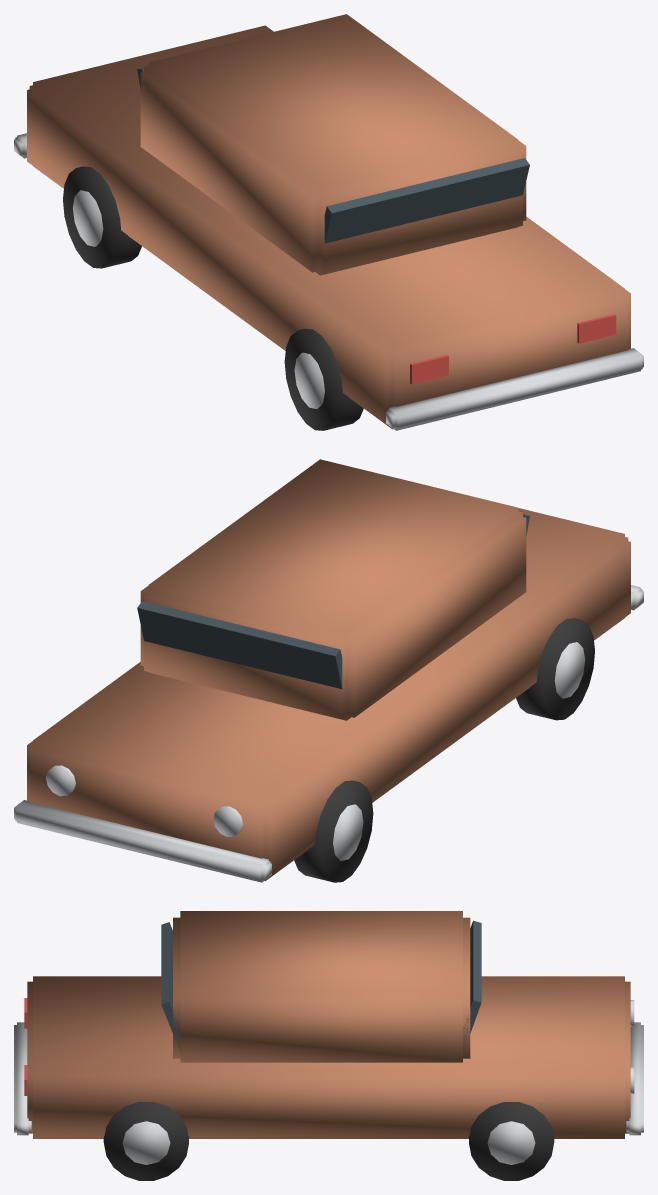
Rendered from skoda_120.glb.
3 views of the same model, one above another, from view 1: azimuth 30°, elevation 25°; view 2: azimuth 150°, elevation 25°; view 3: azimuth 270°, elevation 25° (orthographic). The views are drawn at different scales.
Visible parts, largest first — view 1: BodyLower, Cabin, RearWindow, RearBumper, Tire_-0.7_1.2, Tire_-0.7_-1.2, Rim_-0.7_-1.2, Rim_-0.7_1.2, Taillamp_0.54, Taillamp_-0.54; view 2: BodyLower, Cabin, Windshield, FrontBumper, Tire_-0.7_-1.2, Tire_-0.7_1.2, Rim_-0.7_1.2, Rim_-0.7_-1.2, Headlamp_0.54, Headlamp_-0.54; view 3: BodyLower, Cabin, Tire_0.7_1.2, Tire_0.7_-1.2, Rim_0.7_1.2, Rim_0.7_-1.2, RearBumper, FrontBumper, RearWindow, Windshield.
Part boxes in pixels (left/top/right/bottom): BodyLower: left=27, top=25, right=630, bottom=429; Cabin: left=140, top=14, right=526, bottom=275; RearWindow: left=324, top=158, right=529, bottom=243; RearBumper: left=386, top=348, right=643, bottom=430; Tire_-0.7_1.2: left=63, top=166, right=141, bottom=268; Tire_-0.7_-1.2: left=284, top=328, right=363, bottom=430; Rim_-0.7_-1.2: left=294, top=352, right=324, bottom=408; Rim_-0.7_1.2: left=72, top=190, right=103, bottom=246; Taillamp_0.54: left=577, top=314, right=616, bottom=343; Taillamp_-0.54: left=410, top=355, right=448, bottom=384; BodyLower: left=27, top=508, right=630, bottom=881; Cabin: left=140, top=459, right=526, bottom=720; Windshield: left=137, top=601, right=346, bottom=689; FrontBumper: left=14, top=800, right=271, bottom=882; Tire_-0.7_-1.2: left=516, top=618, right=594, bottom=720; Tire_-0.7_1.2: left=294, top=780, right=373, bottom=882; Rim_-0.7_1.2: left=333, top=804, right=363, bottom=860; Rim_-0.7_-1.2: left=554, top=642, right=585, bottom=698; Headlamp_0.54: left=46, top=765, right=75, bottom=796; Headlamp_-0.54: left=213, top=806, right=243, bottom=836; BodyLower: left=27, top=976, right=630, bottom=1138; Cabin: left=173, top=911, right=470, bottom=1062; Tire_0.7_1.2: left=469, top=1102, right=554, bottom=1180; Tire_0.7_-1.2: left=103, top=1102, right=188, bottom=1180; Rim_0.7_1.2: left=487, top=1121, right=535, bottom=1164; Rim_0.7_-1.2: left=122, top=1121, right=170, bottom=1164; RearBumper: left=14, top=1022, right=31, bottom=1135; FrontBumper: left=626, top=1022, right=643, bottom=1135; RearWindow: left=161, top=922, right=180, bottom=1051; Windshield: left=463, top=920, right=481, bottom=1052.
Bounding box in the file's own units: 1.69 × 1.34 × 4.28.
